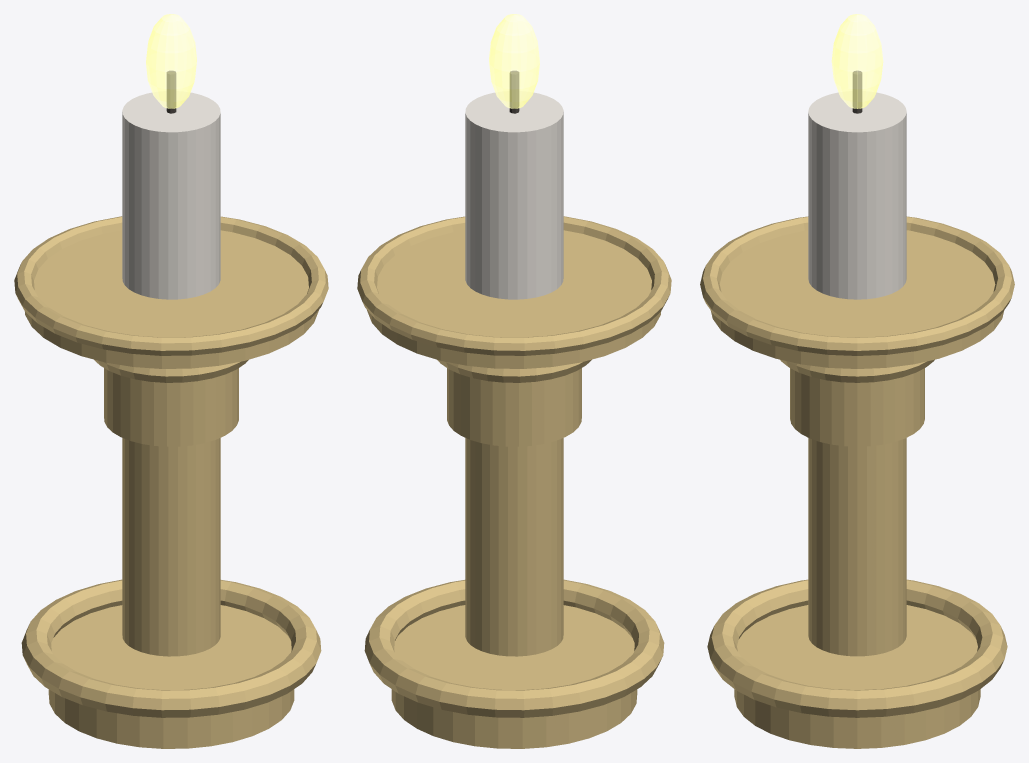
File: tarot_candle_stand.glb
3 views of the same model, side by side, from view 1: azimuth 30°, elevation 25°; view 2: azimuth 150°, elevation 25°; view 3: azimuth 270°, elevation 25° (orthographic).
Visible parts, largest first — view 1: tarot_candle_stand; view 2: tarot_candle_stand; view 3: tarot_candle_stand.
Part boxes in pixels (box(x1,y1,x2,y2)): tarot_candle_stand: box(14, 14, 328, 748); tarot_candle_stand: box(357, 14, 671, 748); tarot_candle_stand: box(700, 14, 1014, 748).
Bounding box in the file's own units: 0.256 × 0.612 × 0.256.
